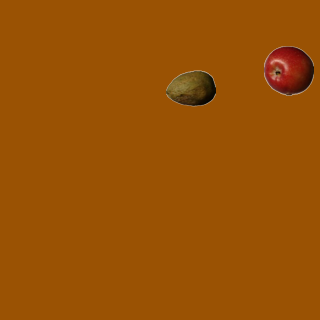Apple Braeburn: (263, 45, 313, 95)
Papaya: (165, 63, 215, 113)
